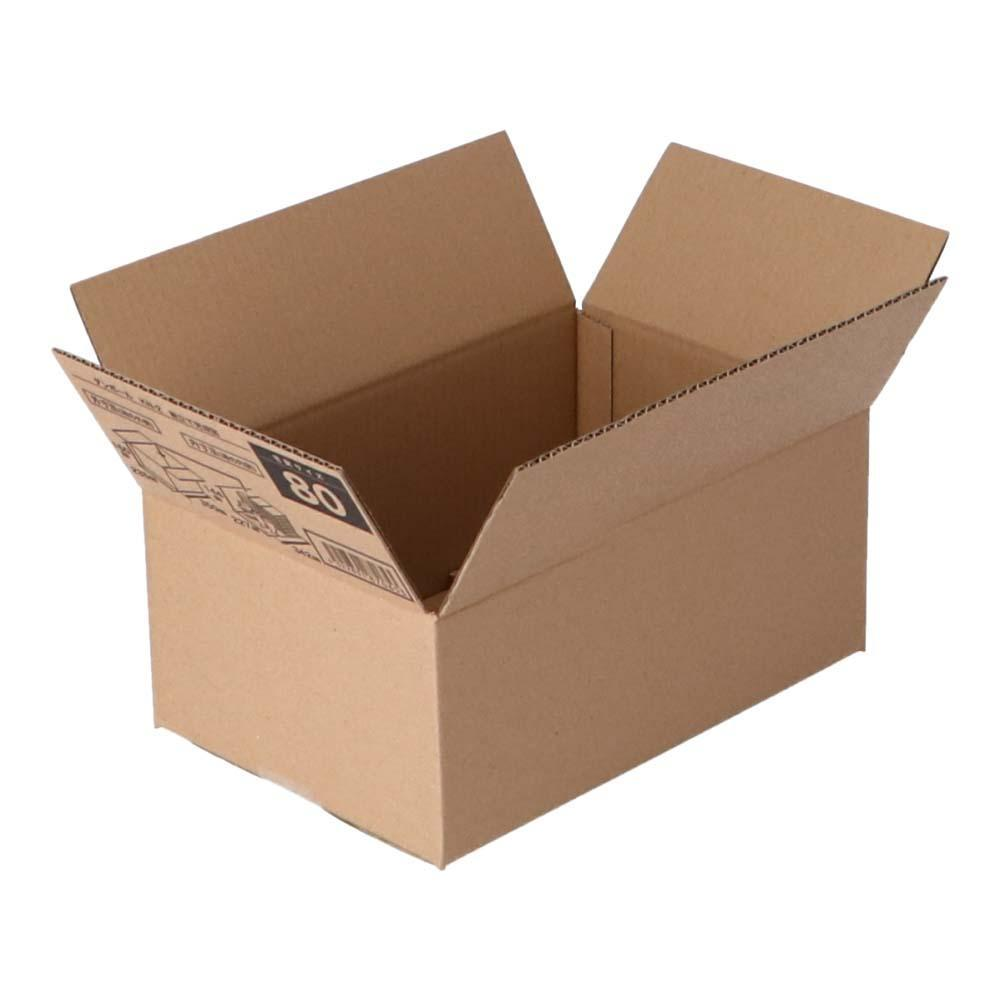box: (68, 121, 958, 858)
